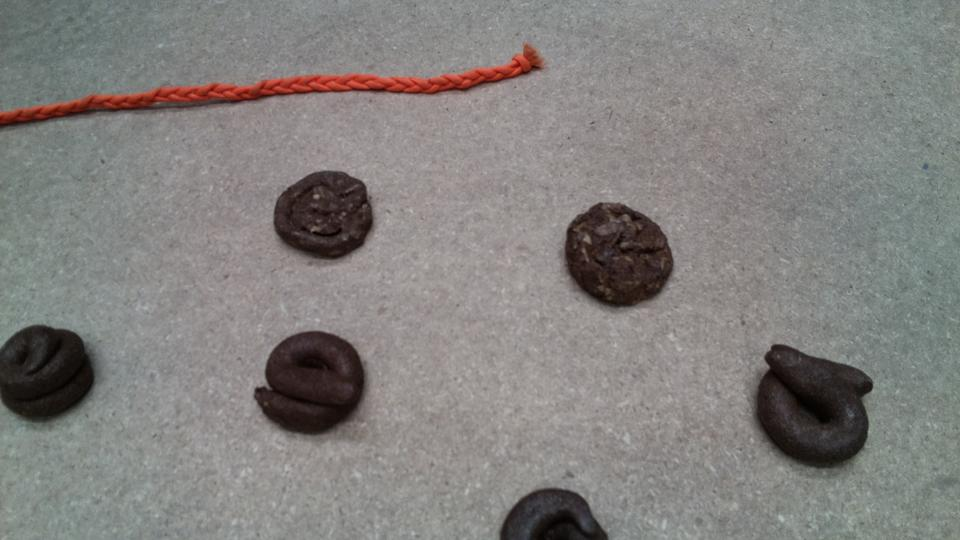poop: (754, 340, 876, 473), (563, 198, 676, 311), (252, 328, 366, 438), (1, 320, 101, 426), (271, 166, 376, 262), (495, 484, 614, 540)
rope: (1, 42, 548, 126)
